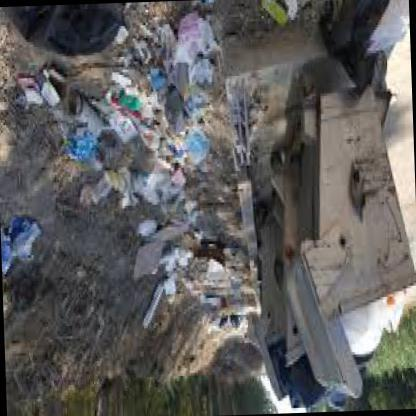Garbage: (152, 2, 218, 140), (313, 0, 411, 59), (348, 290, 412, 362), (3, 212, 47, 284), (19, 53, 67, 112), (126, 14, 164, 85), (162, 96, 200, 160), (115, 156, 154, 211), (290, 358, 326, 411), (103, 58, 155, 93), (161, 160, 193, 209), (181, 134, 214, 174), (62, 127, 98, 162), (259, 0, 301, 29), (166, 242, 202, 274), (134, 125, 172, 149), (38, 74, 66, 104), (116, 102, 146, 124), (116, 92, 137, 118)
